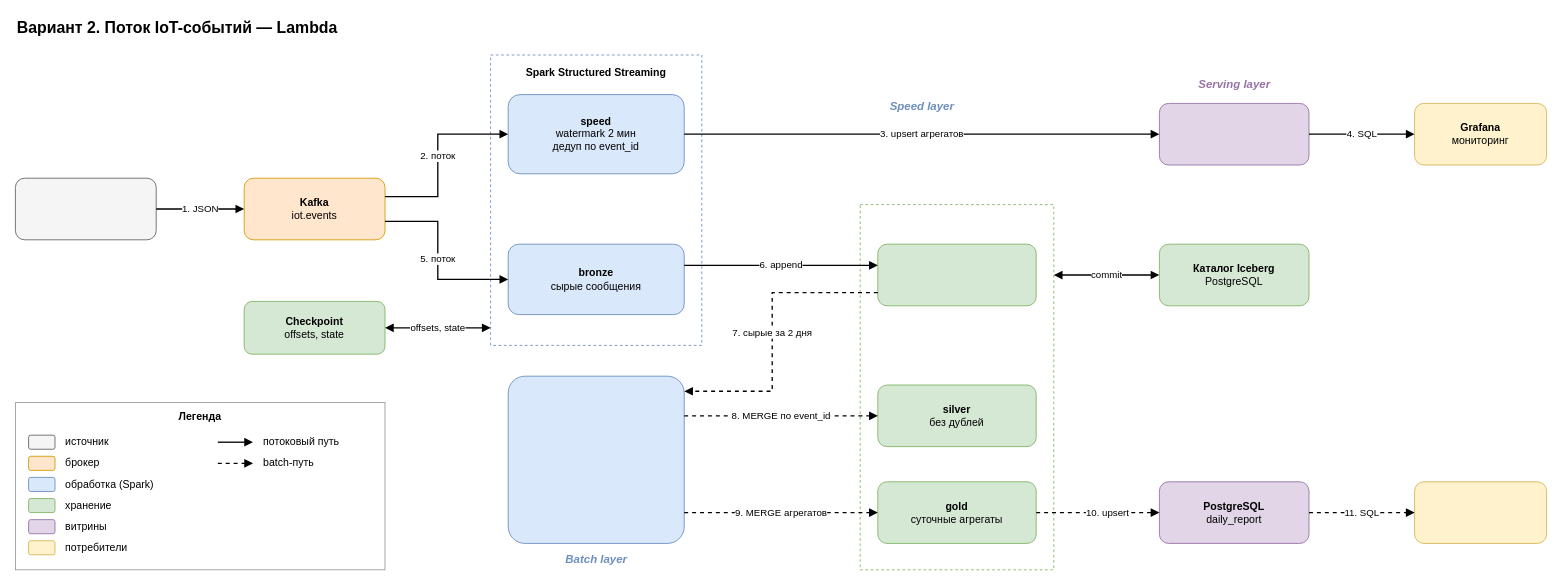
Some shapes in this 1562 by 585 pixel diagram are drawn without their labels. The shapes that lost their labels are listed below. From the top down, each one's box as (x1, y1, x2, y2) in pixels, then its label:
(1159, 103, 1309, 165): PostgreSQL live_sensor_1m
(15, 177, 156, 240): IoT-датчики generator.py
(877, 243, 1036, 306): bronze всё как есть
(859, 204, 1054, 570): Iceberg + MinIO
(507, 375, 684, 543): Spark batch раз в сутки дедуп, агрегаты
(1414, 481, 1547, 543): Grafana суточный отчёт
